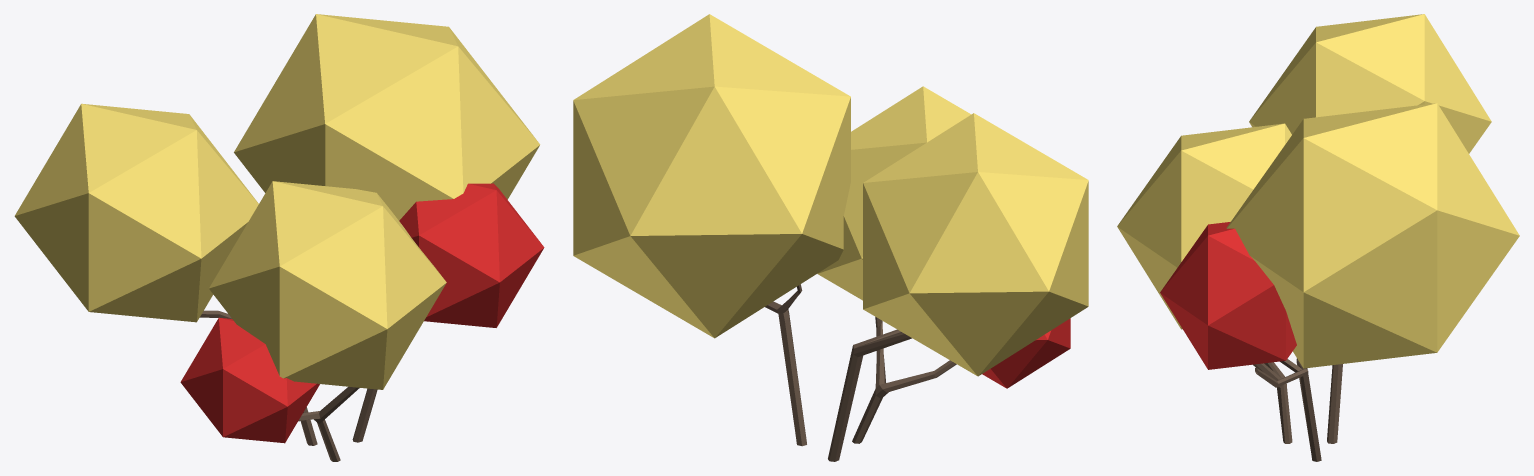
File: Isl_13_Bush_1.fbx
3 views of the same model, side by side, from view 1: azimuth 30°, elevation 25°; view 2: azimuth 150°, elevation 25°; view 3: azimuth 270°, elevation 25° (orthographic). The views are drawn at different scales.
Parts seen in each view (by area): view 1: Isl_13_Bush_1; view 2: Isl_13_Bush_1; view 3: Isl_13_Bush_1.
Part boxes in pixels (<box>): Isl_13_Bush_1: <box>14,14,544,461</box>; Isl_13_Bush_1: <box>573,14,1088,461</box>; Isl_13_Bush_1: <box>1117,14,1519,461</box>.
Bounding box in the file's own units: 389 × 300 × 301.
Materials: 1 (1 with a texture image).
